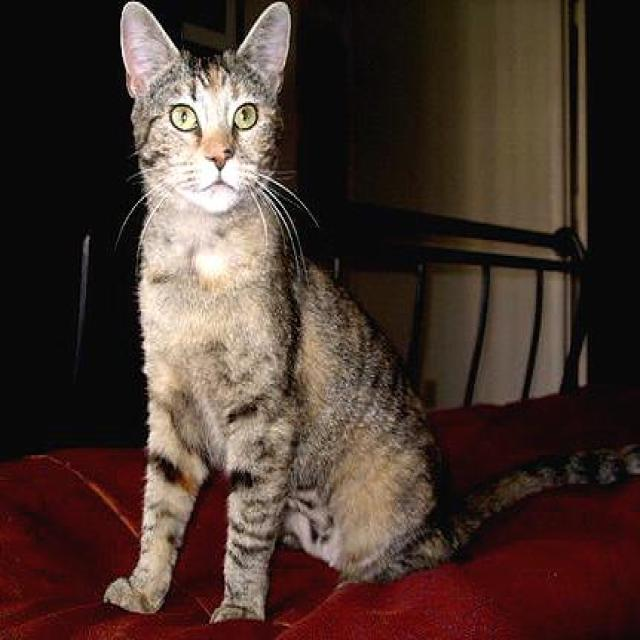cat: (75, 5, 640, 627)
